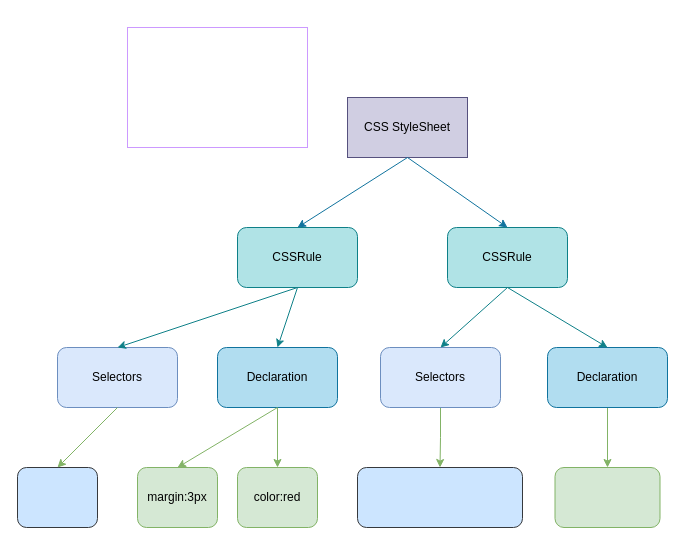
This 685x545 diagram has some shape labels left out. The shapes that lost their labels are listed below. From the top down, each one's box as (x1, y1, x2, y2) in pixels, then its label:
(126, 26, 308, 148): html,body{ margin:0; color:red; } header,footer,div{ margin-top:10px; }
(16, 466, 98, 528): html,body
(356, 466, 522, 528): header,footer,div
(554, 466, 660, 528): margin-top:10px
